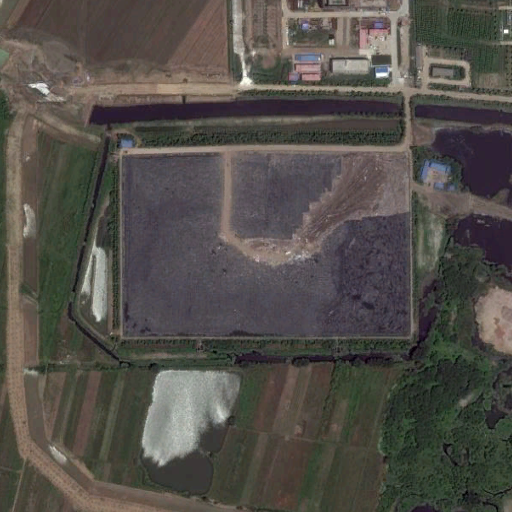lf: (118, 147, 421, 344)
